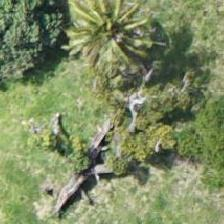coconut_tree: (64, 0, 154, 80)
